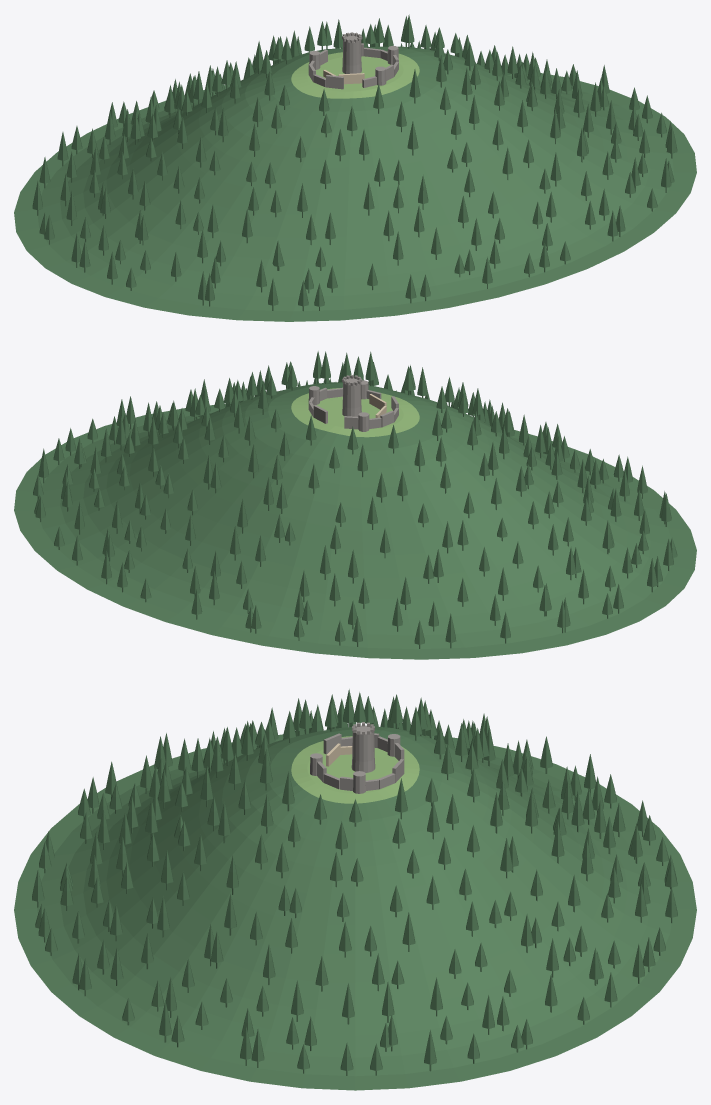
The model's file is nurburg_castle.glb.
The picture shows the model from 3 angles, top to bottom: view 1: azimuth 30°, elevation 25°; view 2: azimuth 150°, elevation 25°; view 3: azimuth 270°, elevation 25°; orthographic projection. The views are drawn at different scales.
Parts seen in each view (by area): view 1: hill, trees, castle; view 2: hill, trees, castle; view 3: hill, trees, castle.
Boxes of the visible parts, x1,y1,x2,y2 form: hill: (14, 46, 696, 321); trees: (32, 14, 677, 311); castle: (308, 32, 398, 89); hill: (14, 382, 696, 659); trees: (33, 351, 677, 648); castle: (308, 375, 398, 431); hill: (14, 726, 696, 1090); trees: (32, 689, 677, 1075); castle: (310, 722, 404, 793).
Size of the model in its own units: 425 by 101 by 340.
